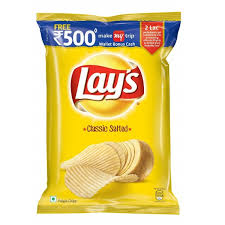lays-med: (37, 14, 177, 210)
